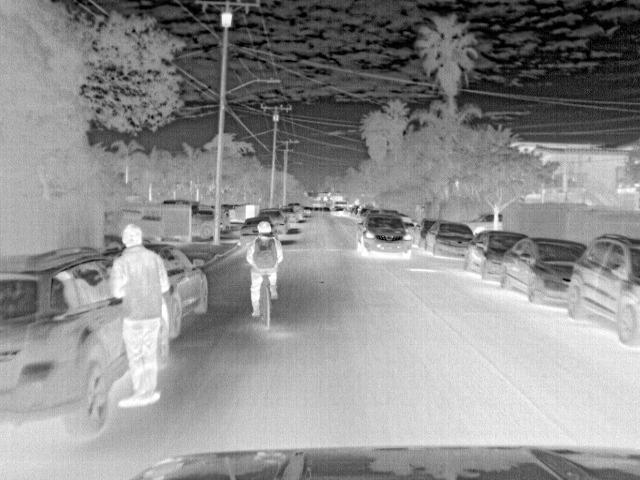car: (3, 247, 126, 438), (566, 235, 640, 344), (142, 243, 211, 339), (499, 238, 587, 311), (462, 231, 528, 283), (354, 210, 415, 259), (423, 221, 476, 258), (189, 207, 215, 239), (466, 212, 495, 237), (279, 205, 296, 224), (288, 200, 304, 219)
person: (108, 223, 172, 406), (240, 221, 284, 316)
